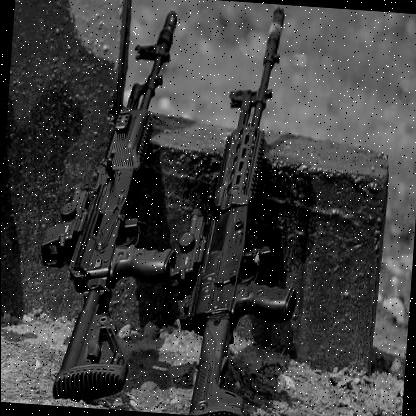rifle: (179, 5, 325, 416), (42, 1, 186, 397)
